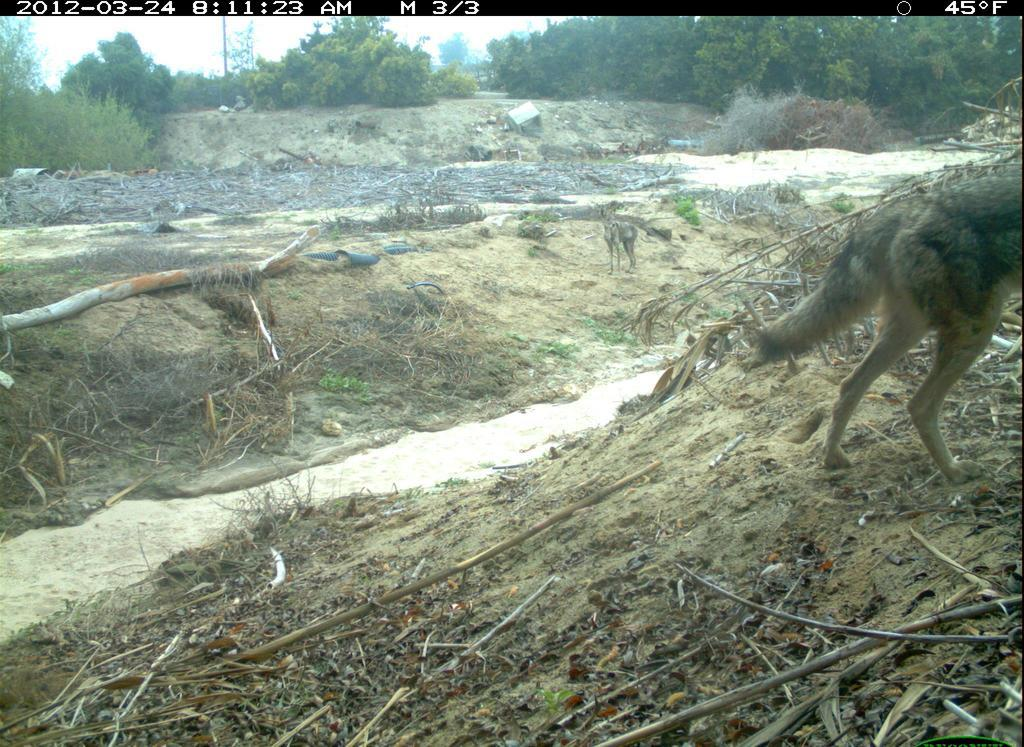coyote: (735, 153, 1024, 499), (599, 202, 640, 277)
